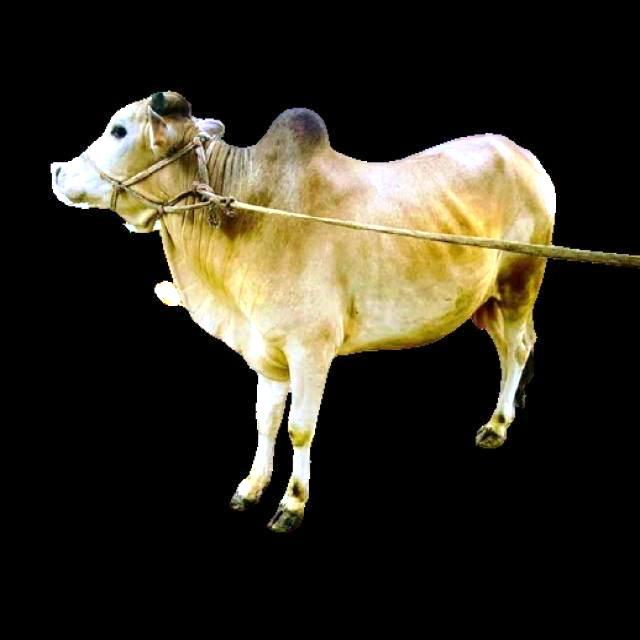COW: (51, 92, 555, 531)
